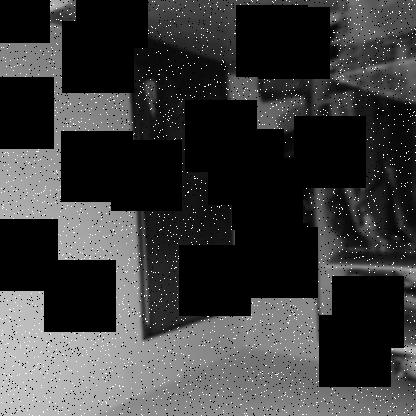Porte: (128, 33, 240, 342)
